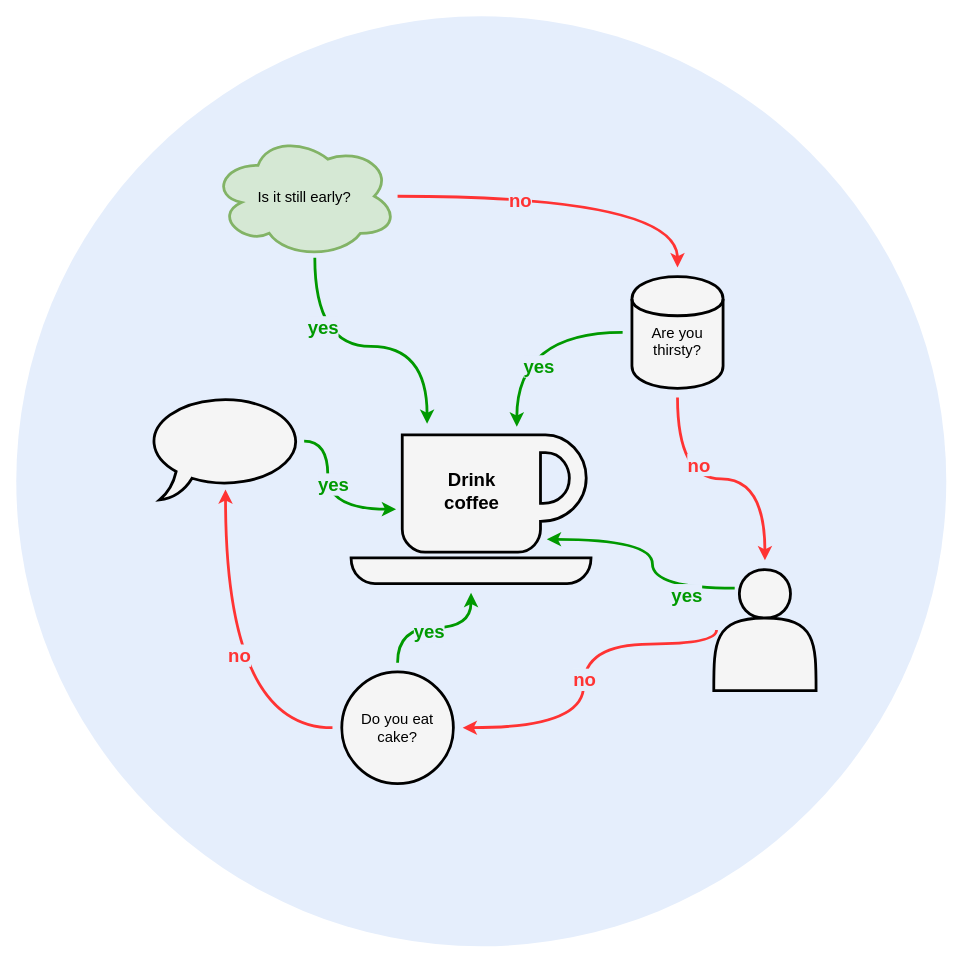
The diagram is 962 pixels wide and 962 high, and some of its shapes have lost their labels. The shapes that lost their labels are listed below. From the top down, each one's centre as x and y in pixels, then its label:
[225,447]: That's too bad!
[764,629]: Do you have visitors
